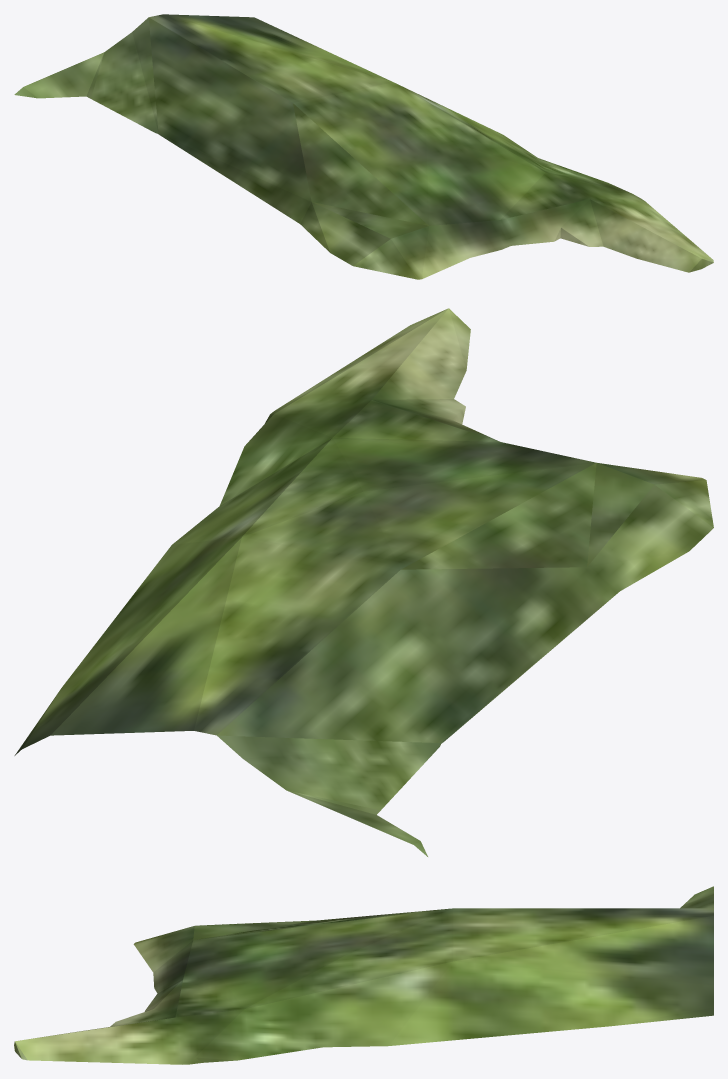
The picture shows the model from 3 angles, top to bottom: view 1: azimuth 30°, elevation 25°; view 2: azimuth 150°, elevation 25°; view 3: azimuth 270°, elevation 25°; orthographic projection. The views are drawn at different scales.
Size of the model in its own units: 7.28 by 0.979 by 12.13.
1 material, 1 textured.
